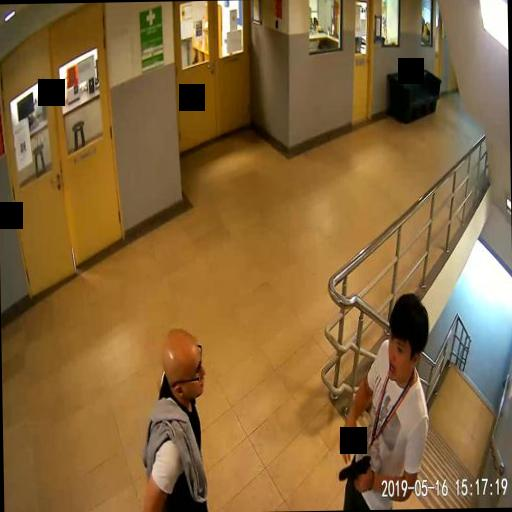Handgun: (338, 454, 370, 493)
